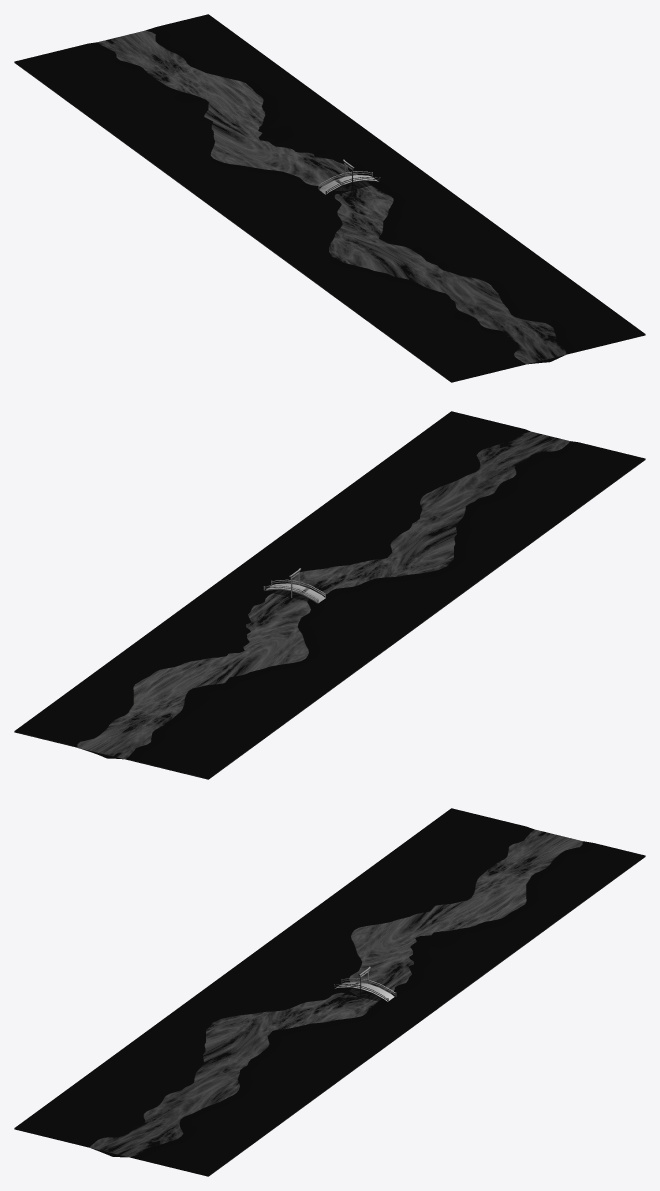
File: bridge_bake_att2X.fbx
3 renders of one model, top to bottom at view 1: azimuth 30°, elevation 25°; view 2: azimuth 150°, elevation 25°; view 3: azimuth 330°, elevation 25°, orthographic.
Parts seen in each view (by area): view 1: Landscape, Landscape_plane, SurfCylinder; view 2: Landscape, Landscape_plane, SurfCylinder; view 3: Landscape, Landscape_plane, SurfCylinder.
Boxes of the visible parts, left/top/right/bottom form: Landscape: left=14, top=14, right=645, bottom=381; Landscape_plane: left=14, top=30, right=645, bottom=382; SurfCylinder: left=318, top=159, right=380, bottom=195; Landscape: left=14, top=411, right=645, bottom=778; Landscape_plane: left=14, top=431, right=645, bottom=779; SurfCylinder: left=263, top=568, right=325, bottom=603; Landscape: left=14, top=808, right=645, bottom=1175; Landscape_plane: left=14, top=829, right=645, bottom=1176; SurfCylinder: left=334, top=966, right=396, bottom=1002.
Bounding box in the file's own units: 227 × 36.55 × 884.
Materials: 3 (2 with a texture image).
